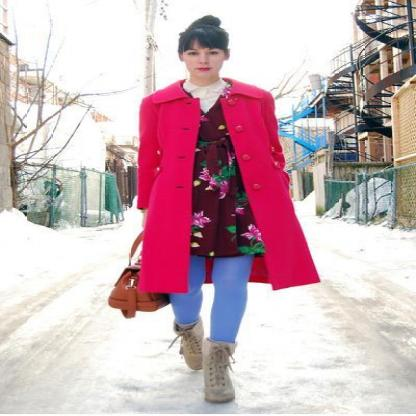dress: (190, 96, 263, 258)
jacket: (138, 78, 320, 290)
shoe: (170, 314, 236, 404)
